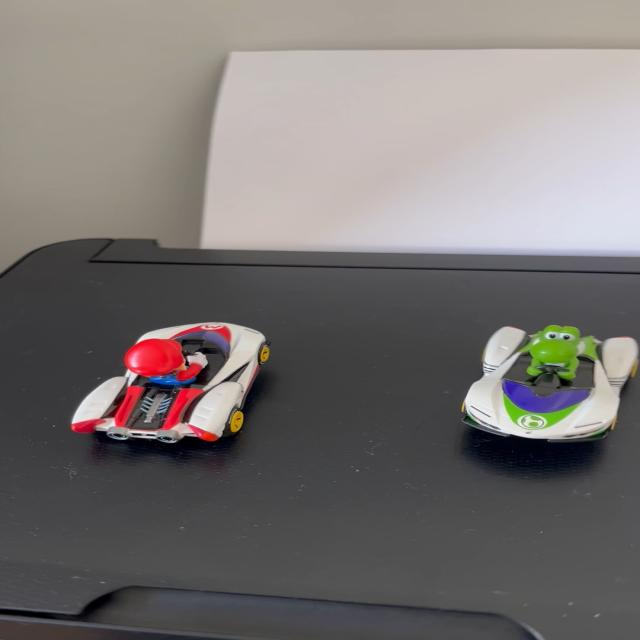mario: (51, 310, 284, 452)
yoshi: (450, 312, 640, 451)
